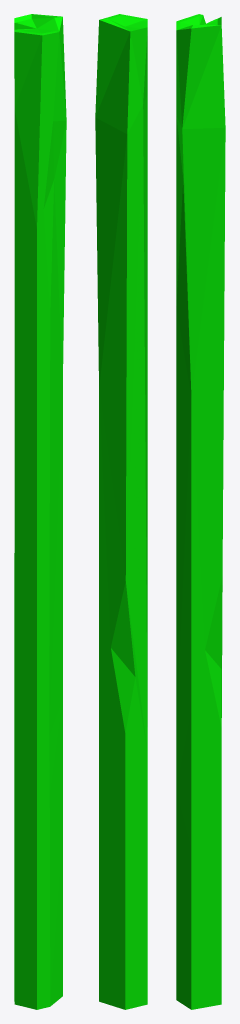
Rendered from SM_Palisade_Gallery_Pillar.fbx.
3 views of the same model, side by side, from view 1: azimuth 30°, elevation 25°; view 2: azimuth 210°, elevation 25°; view 3: azimuth 270°, elevation 25° (orthographic).
Parts seen in each view (by area): view 1: palisade-gallery-pillar; view 2: palisade-gallery-pillar; view 3: palisade-gallery-pillar.
Part boxes in pixels (x1=…): palisade-gallery-pillar: x1=14, y1=14, x2=66, y2=1009; palisade-gallery-pillar: x1=95, y1=14, x2=147, y2=1009; palisade-gallery-pillar: x1=176, y1=14, x2=225, y2=1009.
Size of the model in its own units: 0.2282 by 4.8 by 0.218.
